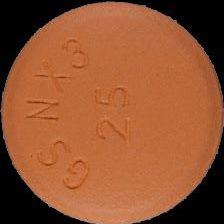0007-4640: (0, 0, 224, 224)
